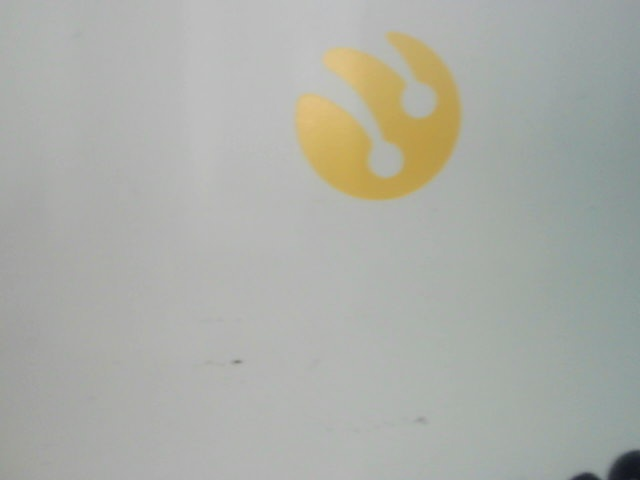AV_H3600Yellow: (290, 21, 477, 204)
